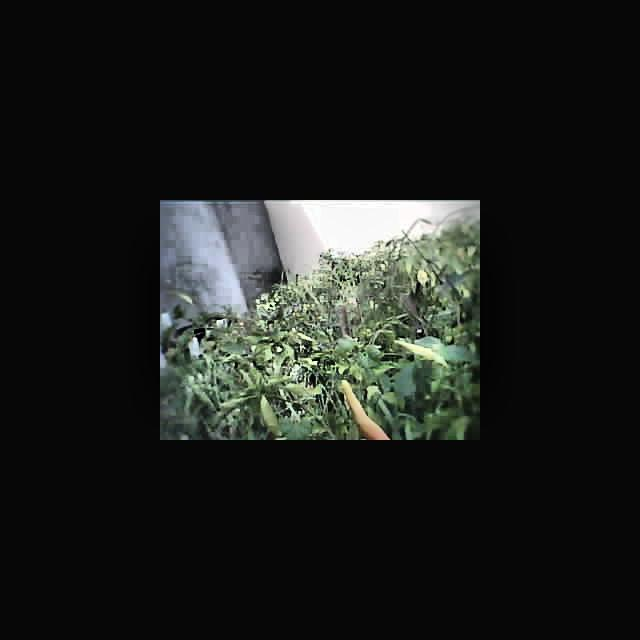Cabai: (341, 386, 384, 440)
